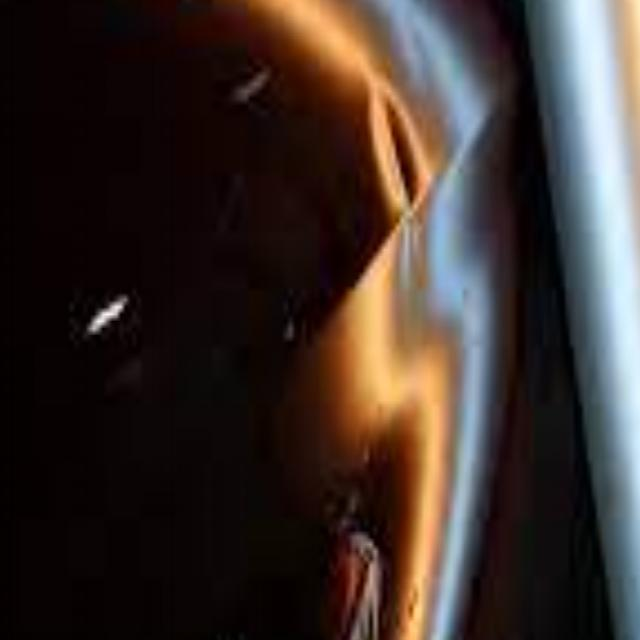dents: (352, 61, 440, 217)
